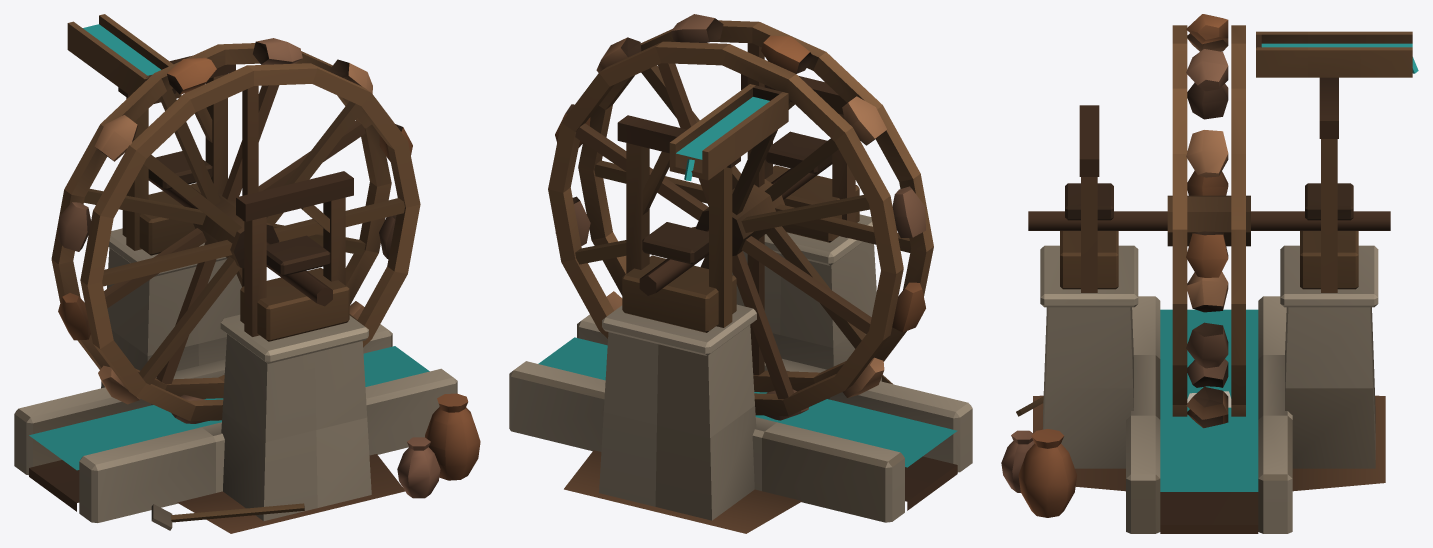
The model's file is noria.glb.
3 renders of one model, left to right at view 1: azimuth 30°, elevation 25°; view 2: azimuth 150°, elevation 25°; view 3: azimuth 270°, elevation 25°, orthographic. The views are drawn at different scales.
Parts seen in each view (by area): view 1: noria, roue; view 2: noria, roue; view 3: noria, roue.
Boxes of the visible parts, x1,y1,x2,y2 form: noria: (14,14,480,533); roue: (51,38,420,423); noria: (509,74,972,533); roue: (548,14,933,420); noria: (1001,31,1418,533); roue: (1028,14,1390,428).
Bounding box in the file's own units: 0.88 × 0.9189 × 0.8525.
